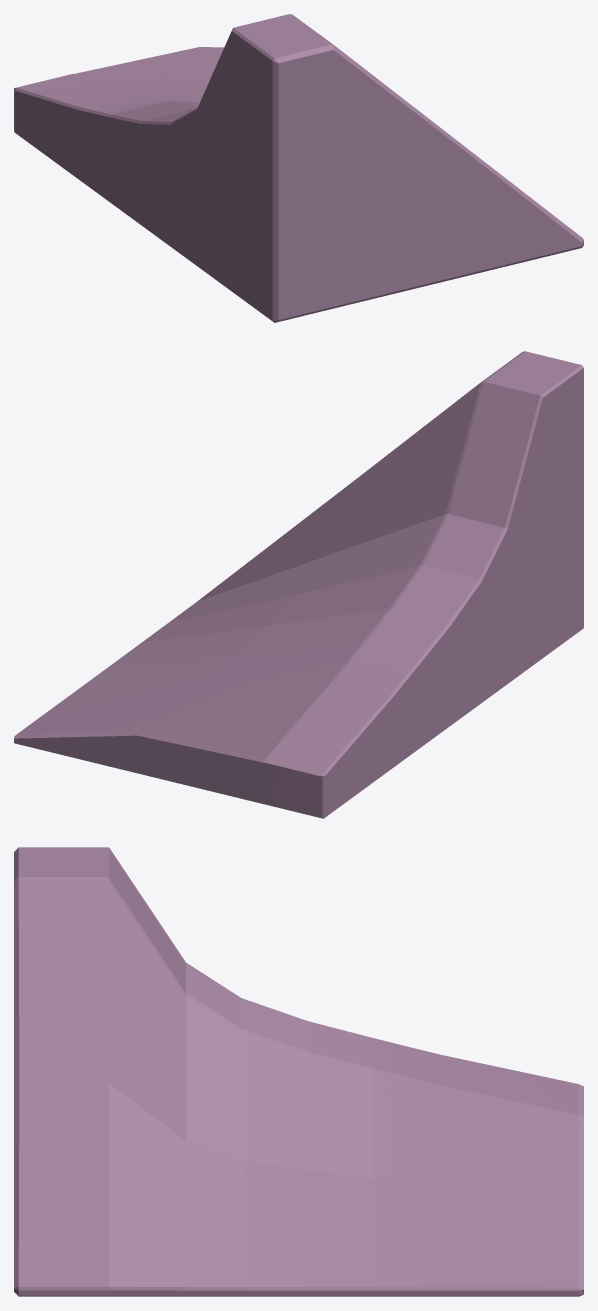
File: mesh_bhpRampLeftMod_v04.fbx
3 renders of one model, top to bottom at view 1: azimuth 30°, elevation 25°; view 2: azimuth 150°, elevation 25°; view 3: azimuth 270°, elevation 25°, orthographic. The views are drawn at different scales.
Visible parts, largest first — view 1: mesh_hpRampLeftMod_v03; view 2: mesh_hpRampLeftMod_v03; view 3: mesh_hpRampLeftMod_v03.
Boxes of the visible parts, x1,y1,x2,y2 form: mesh_hpRampLeftMod_v03: (14, 14, 583, 322); mesh_hpRampLeftMod_v03: (14, 351, 583, 818); mesh_hpRampLeftMod_v03: (14, 847, 583, 1296).
Size of the model in its own units: 10.26 by 8.33 by 15.
